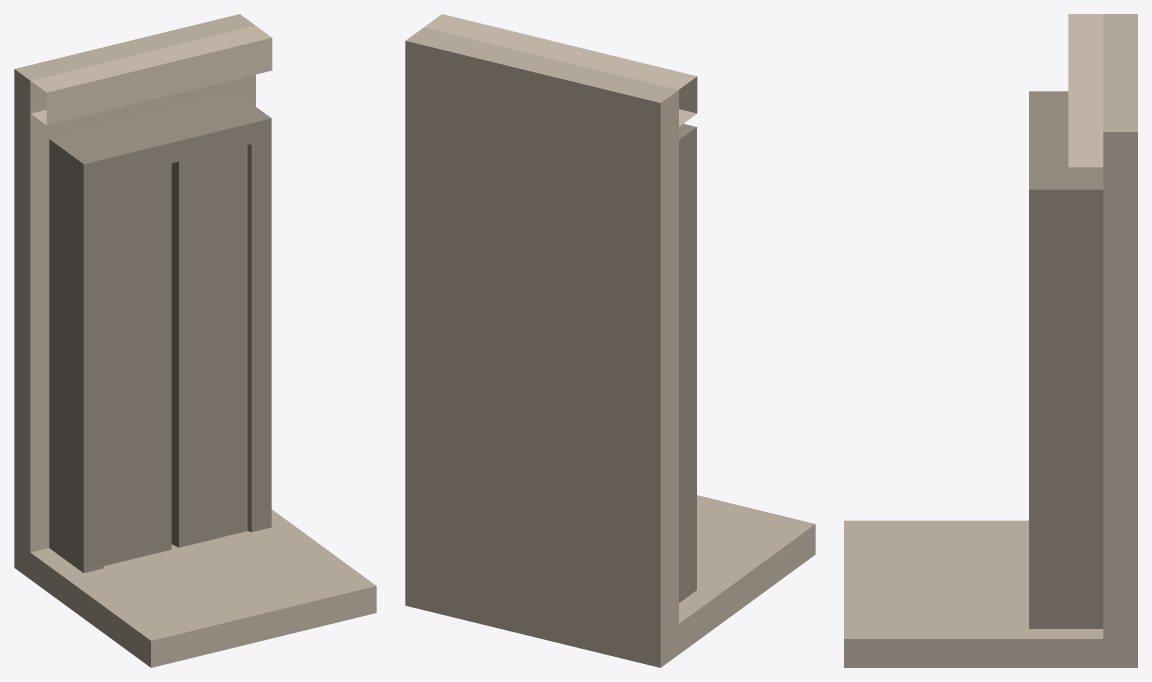
File: Segment_Elevator.fbx
The picture shows the model from 3 angles, left to right: view 1: azimuth 30°, elevation 25°; view 2: azimuth 150°, elevation 25°; view 3: azimuth 270°, elevation 25°; orthographic projection. The views are drawn at different scales.
Parts seen in each view (by area): view 1: Cube.007, Cube.008, Cube.006; view 2: Cube.008, Cube.007, Cube.006; view 3: Cube.008, Cube.007, Cube.006.
Boxes of the visible parts, x1,y1,x2,y2 form: Cube.007: (49,93,271,572); Cube.008: (14,14,376,667); Cube.006: (31,26,272,125); Cube.008: (405,27,815,667); Cube.007: (679,124,696,602); Cube.006: (424,14,697,126); Cube.008: (844,14,1137,667); Cube.007: (1029,91,1103,628); Cube.006: (1068,14,1103,167).
Bounding box in the file's own units: 200 × 423 × 210.
